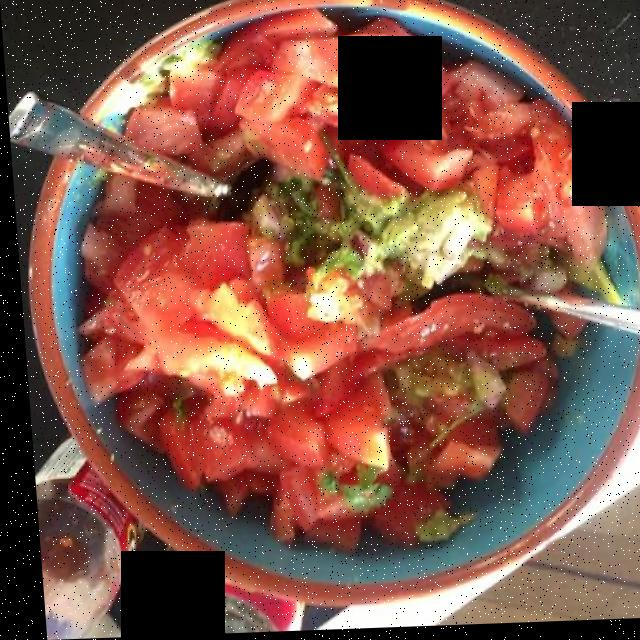tomato-raw: (83, 42, 597, 547)
